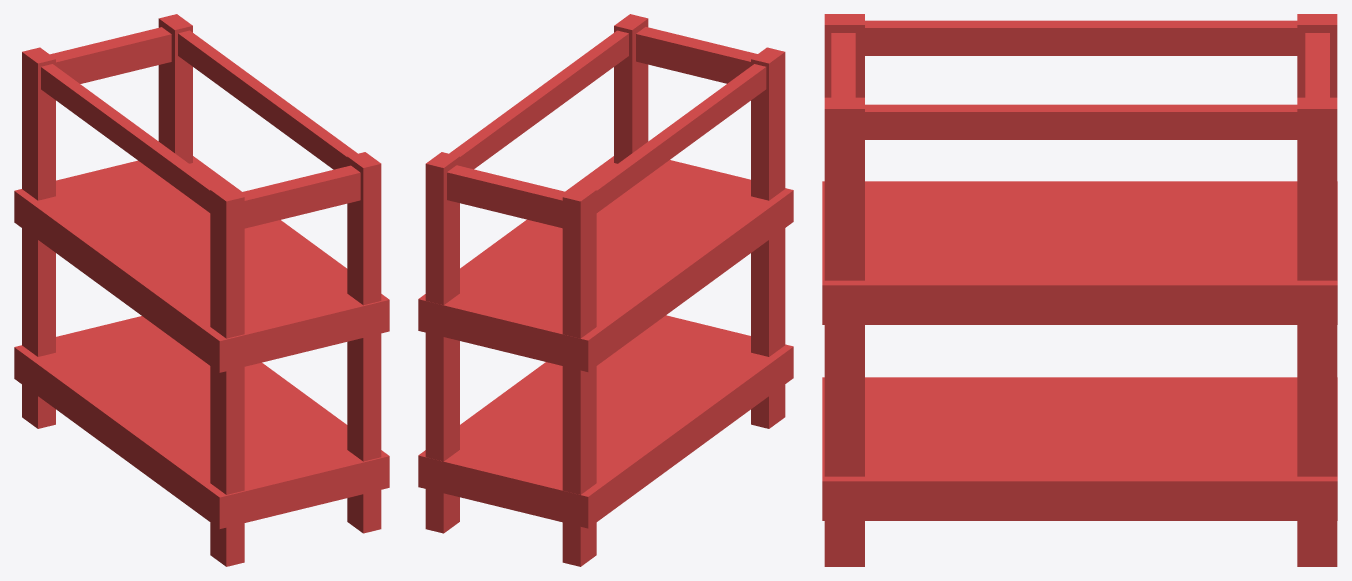
The model's file is Bed_Double_COL.fbx.
3 views of the same model, side by side, from view 1: azimuth 30°, elevation 25°; view 2: azimuth 150°, elevation 25°; view 3: azimuth 270°, elevation 25° (orthographic). The views are drawn at different scales.
Visible parts, largest first — view 1: Bed_Double_COL; view 2: Bed_Double_COL; view 3: Bed_Double_COL.
Boxes of the visible parts, x1,y1,x2,y2 form: Bed_Double_COL: [14, 14, 389, 566]; Bed_Double_COL: [418, 14, 793, 566]; Bed_Double_COL: [822, 14, 1337, 566].
Size of the model in its own units: 100 by 205 by 210.
